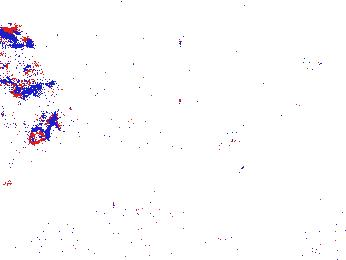red belly glassfish: (29, 112, 59, 145), (1, 26, 33, 48), (283, 58, 324, 75)
